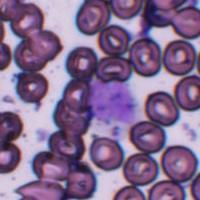M: (86, 80, 138, 124)
